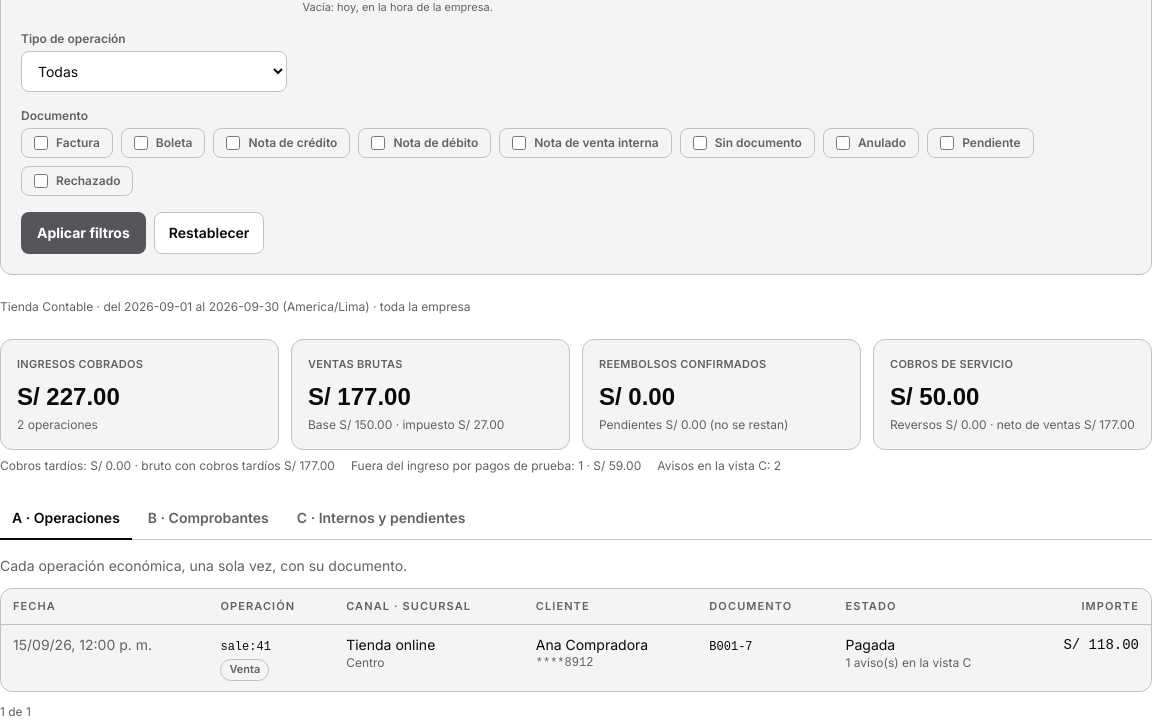
Test: tabs › says what is listed but not added on view B
(page scrolled)
Expected: the link "sale:41" is shown, [220,640,271,654]
Click the tab "B · Comprobantes".
click(208, 519)  # box [136,498,281,540]
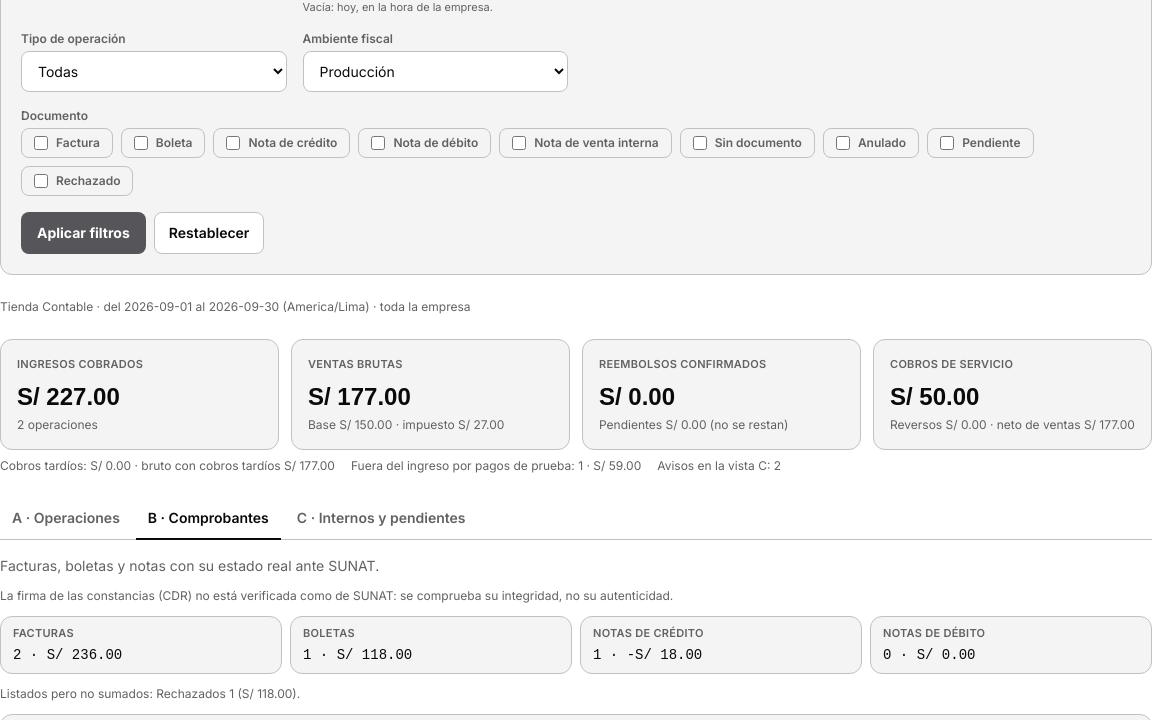
Expected: the text with test id "accounting-excluded-totals" shows "Rechazados 1", [156,686,297,701]
